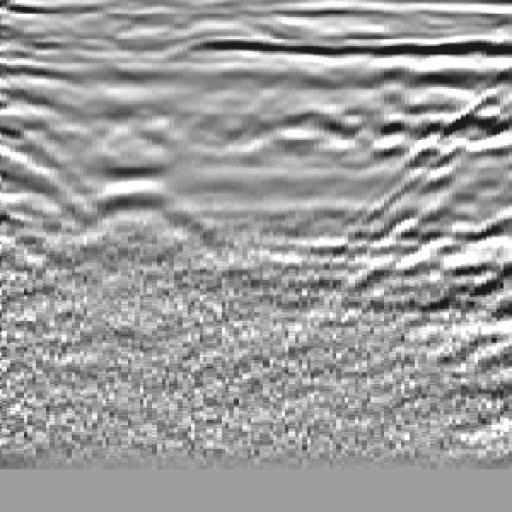metalic: (55, 154, 224, 271)
nonmetalic: (367, 38, 512, 287)
